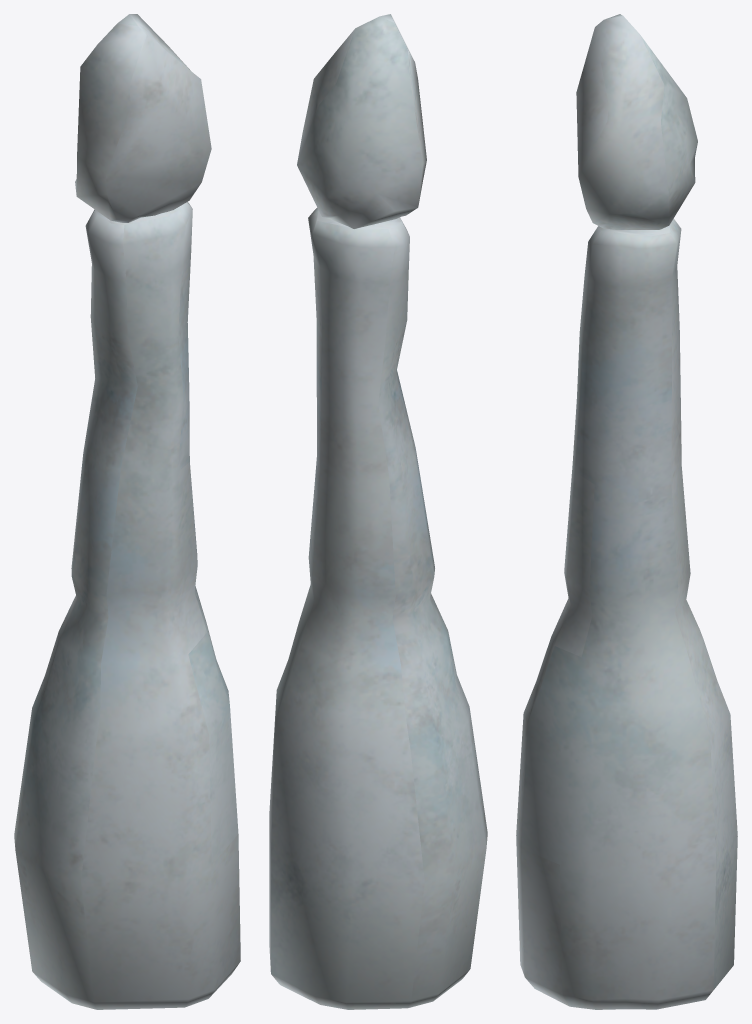
File: P_RockDesert_Hoodoo01.obj
3 renders of one model, left to right at view 1: azimuth 30°, elevation 25°; view 2: azimuth 150°, elevation 25°; view 3: azimuth 270°, elevation 25°, orthographic.
Size of the model in its own units: 3.01 by 14.6 by 3.06.
